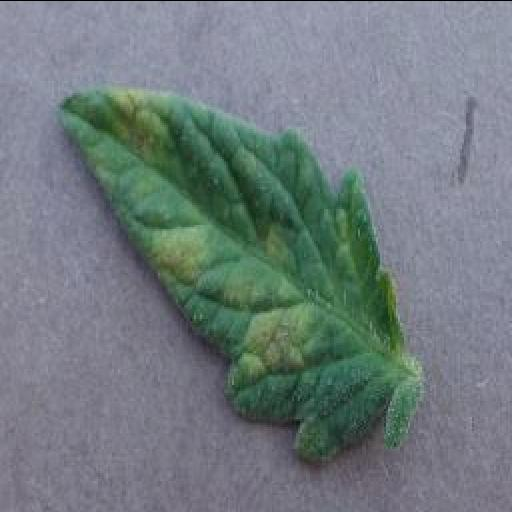disease_tomato: (56, 85, 422, 457)
